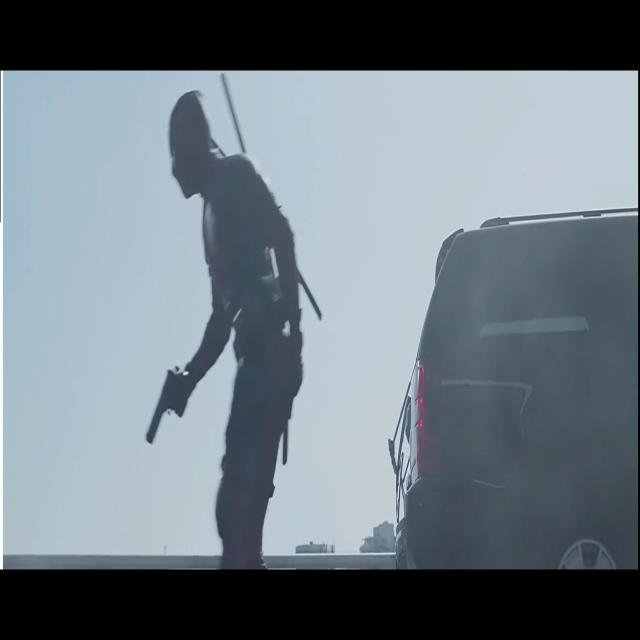weapons: (134, 344, 195, 466)
